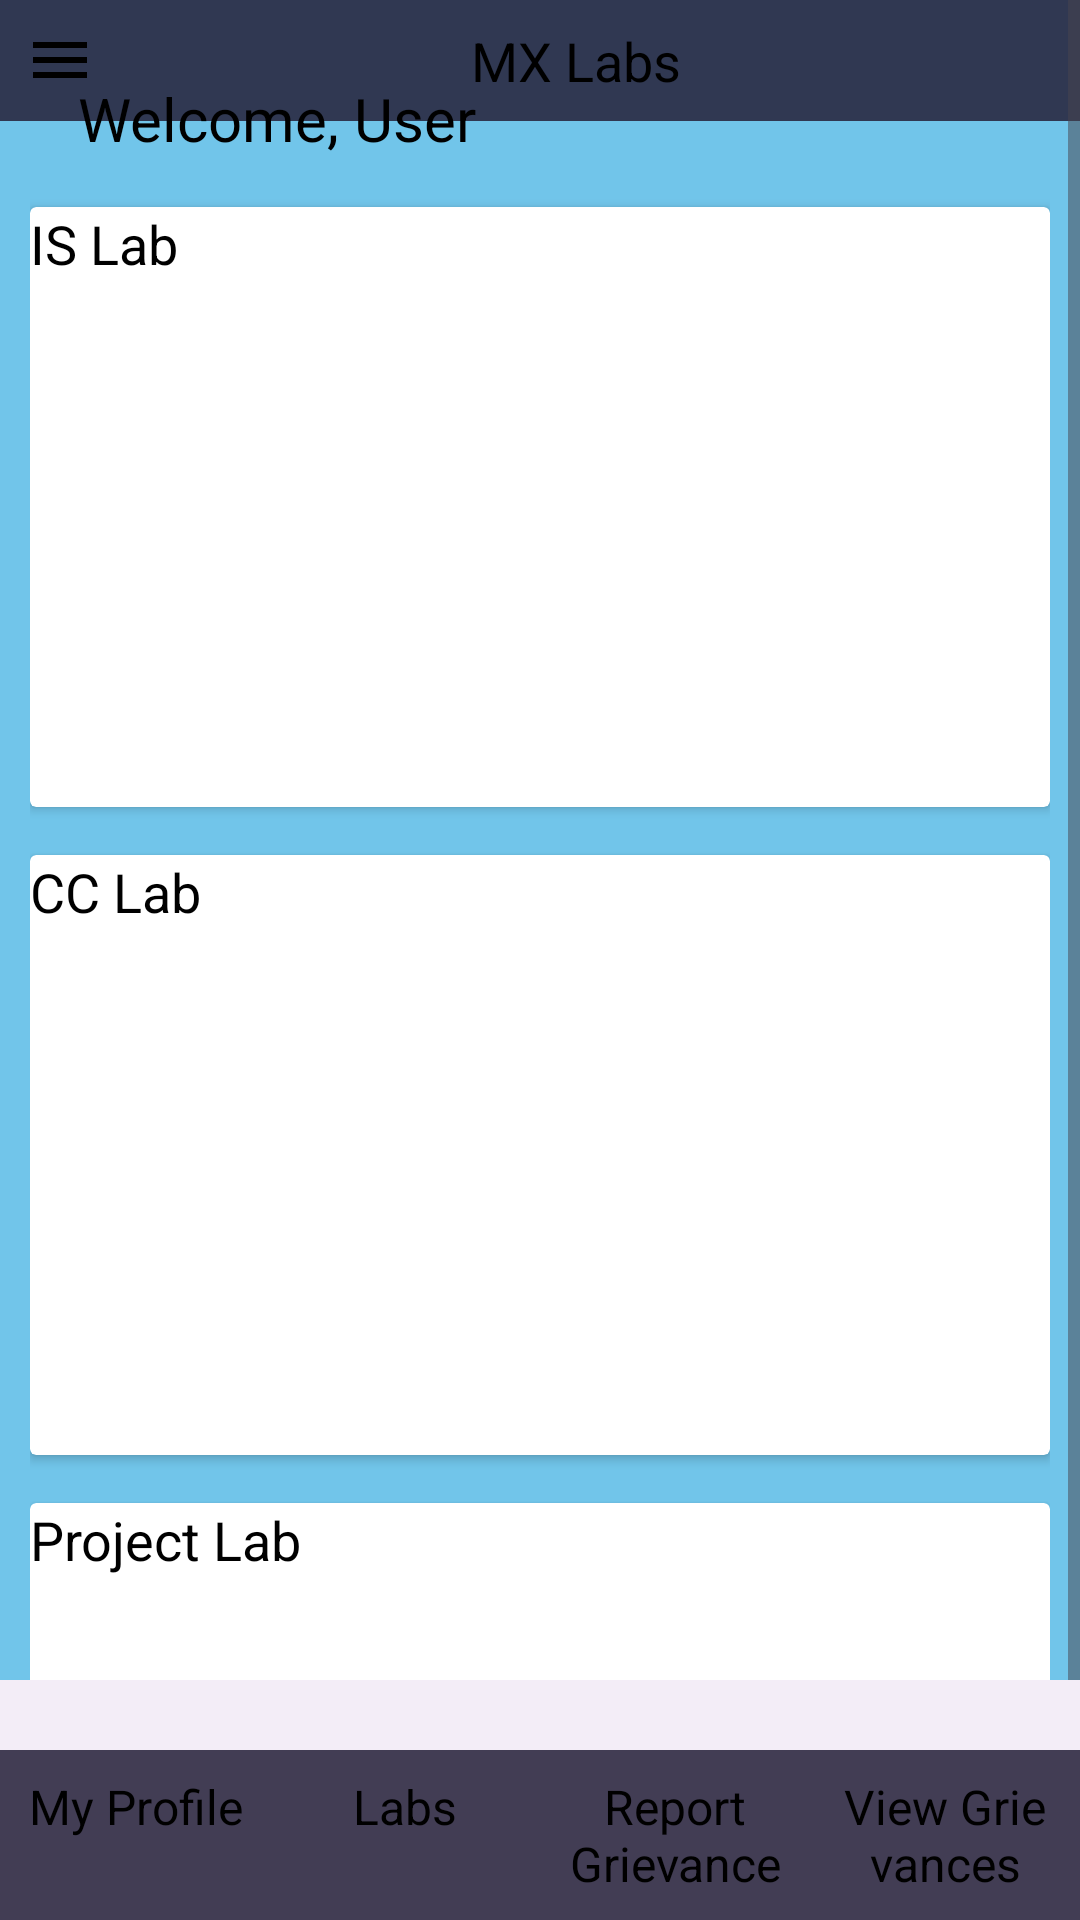

Screen size 1080×1920. Icon name, then its center in pixels as point (x, y):
menu: point (60, 60)
